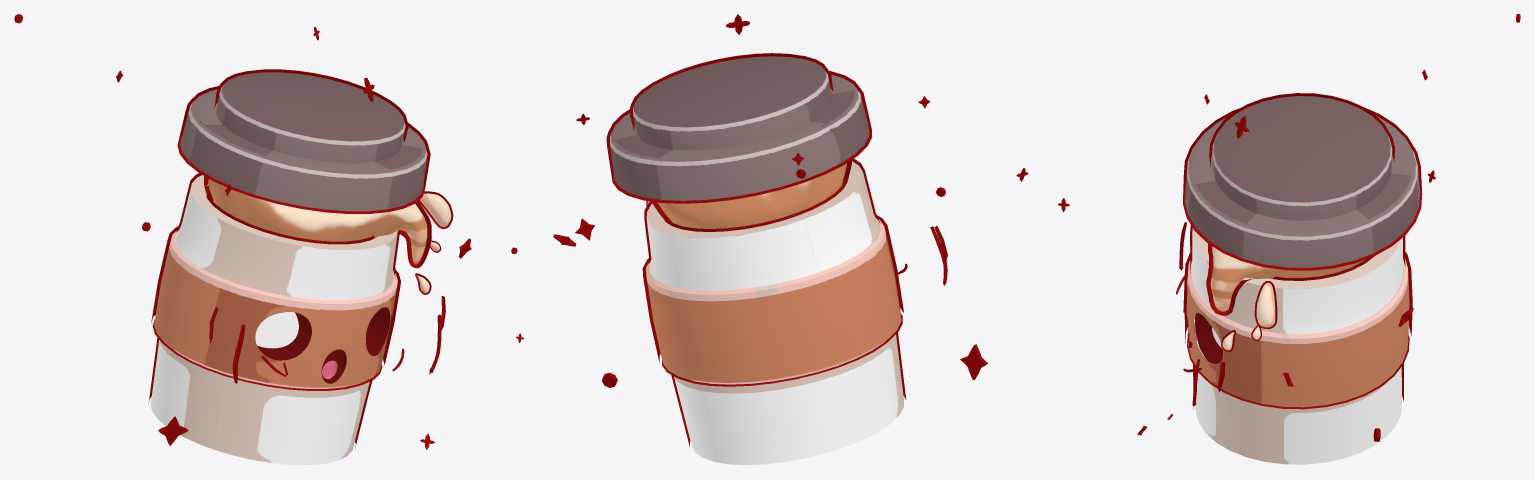
The model's file is catoon_coffe.glb.
3 views of the same model, side by side, from view 1: azimuth 30°, elevation 25°; view 2: azimuth 150°, elevation 25°; view 3: azimuth 270°, elevation 25° (orthographic). The views are drawn at different scales.
Visible parts, largest first — view 1: Cilindro.001_2, Cilindro.003_3, Cilindro.006_6, Cilindro_0, Esfera_11, Cilindro.011_13, Cilindro.005_5, Cilindro.004_4, GP_Layer.002_17, Esfera.001_12; view 2: Cilindro.001_2, Cilindro.003_3, Cilindro.006_6, Cilindro_0, Esfera_11, Cilindro.004_4; view 3: Cilindro.001_2, Cilindro.003_3, Cilindro.006_6, Cilindro_0, Esfera_11, Cilindro.004_4, Esfera.001_12, Cilindro.011_13, GP_Layer.002_17.
Boxes of the visible parts, box(x1,y1,x2,y2) form: Cilindro.001_2: box(177, 69, 430, 213); Cilindro.003_3: box(151, 226, 400, 387); Cilindro.006_6: box(148, 337, 372, 465); Cilindro_0: box(152, 173, 399, 390); Esfera_11: box(204, 176, 431, 268); Cilindro.011_13: box(257, 307, 391, 360); Cilindro.005_5: box(255, 312, 298, 348); Cilindro.004_4: box(170, 230, 397, 303); GP_Layer.002_17: box(209, 296, 445, 383); Esfera.001_12: box(418, 191, 453, 229); Cilindro.001_2: box(606, 53, 872, 203); Cilindro.003_3: box(642, 215, 903, 382); Cilindro.006_6: box(671, 332, 906, 464); Cilindro_0: box(644, 158, 902, 386); Esfera_11: box(651, 160, 852, 228); Cilindro.004_4: box(646, 218, 884, 294); Cilindro.001_2: box(1182, 93, 1422, 270); Cilindro.003_3: box(1183, 252, 1412, 407); Cilindro.006_6: box(1193, 340, 1403, 464); Cilindro_0: box(1187, 225, 1409, 409); Esfera_11: box(1206, 244, 1364, 315); Cilindro.004_4: box(1187, 259, 1407, 338); Esfera.001_12: box(1254, 281, 1277, 329); Cilindro.011_13: box(1195, 313, 1222, 363); GP_Layer.002_17: box(1179, 222, 1225, 406).
Bounding box in the file's own units: 3.94 × 4 × 4.72.
Materials: 5 (4 with a texture image).
